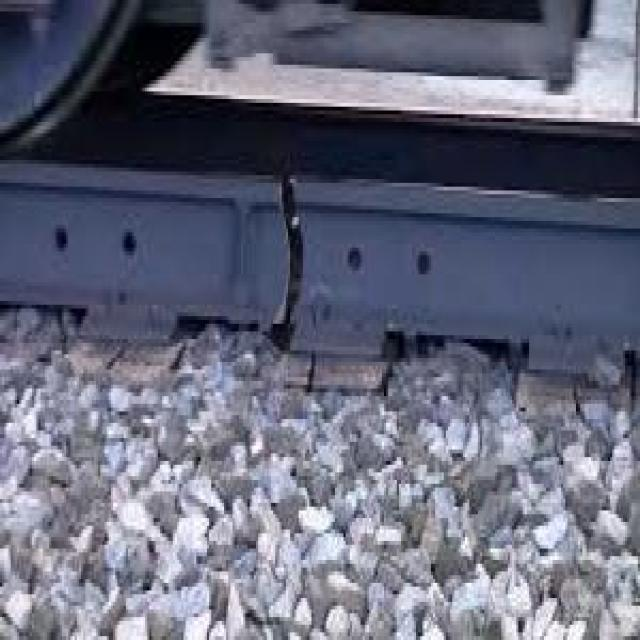Defective Joint: (43, 136, 523, 397)
